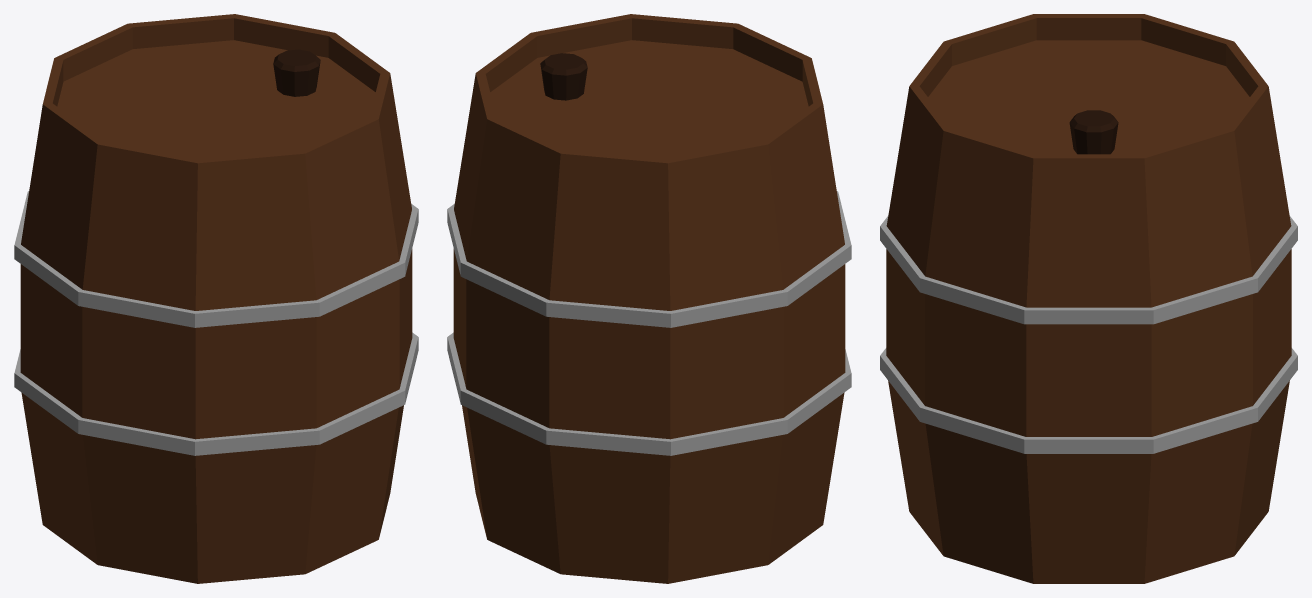
File: barrel.glb
3 views of the same model, side by side, from view 1: azimuth 30°, elevation 25°; view 2: azimuth 150°, elevation 25°; view 3: azimuth 270°, elevation 25° (orthographic).
Visible parts, largest first — view 1: Cylinder, Cylinder.001; view 2: Cylinder, Cylinder.001; view 3: Cylinder, Cylinder.001.
Part boxes in pixels (x1,y1,x2,y2): Cylinder: (14,14,418,583); Cylinder.001: (273,49,320,96); Cylinder: (447,14,851,583); Cylinder.001: (540,53,587,100); Cylinder: (880,14,1297,583); Cylinder.001: (1069,110,1118,154).
Size of the model in its own units: 1.96 by 2.37 by 2.06.
